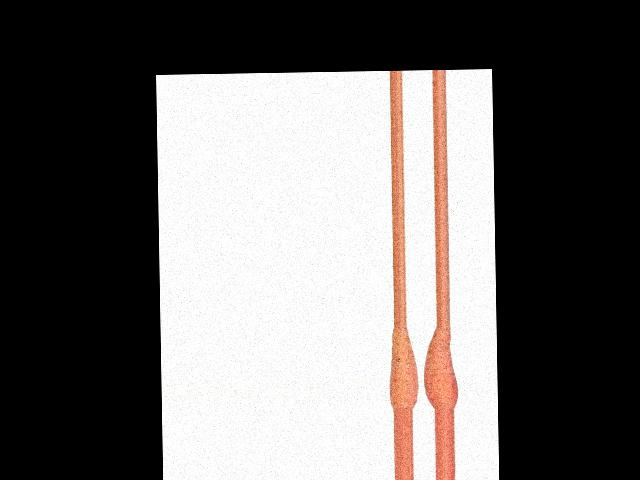sweet_potato: (389, 329, 419, 410)
